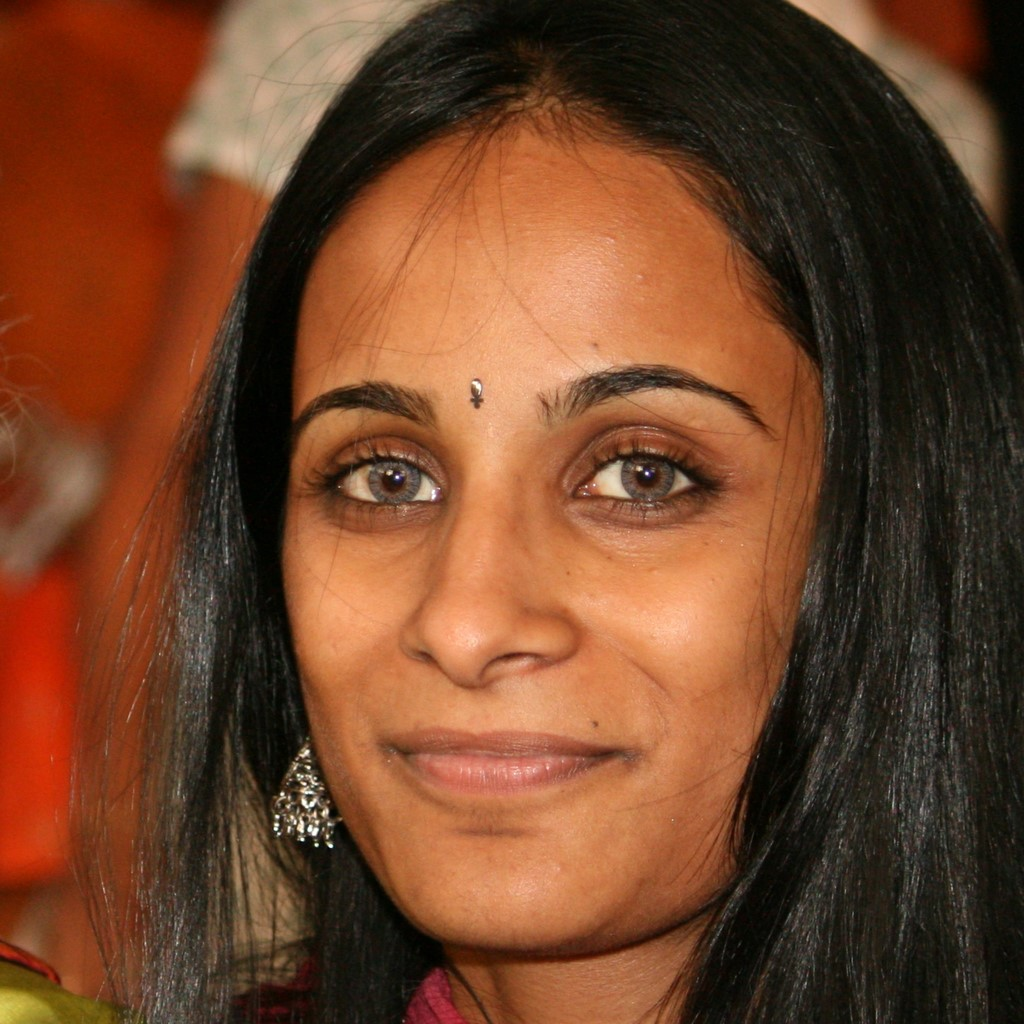sin_mascara: (237, 158, 836, 952)
